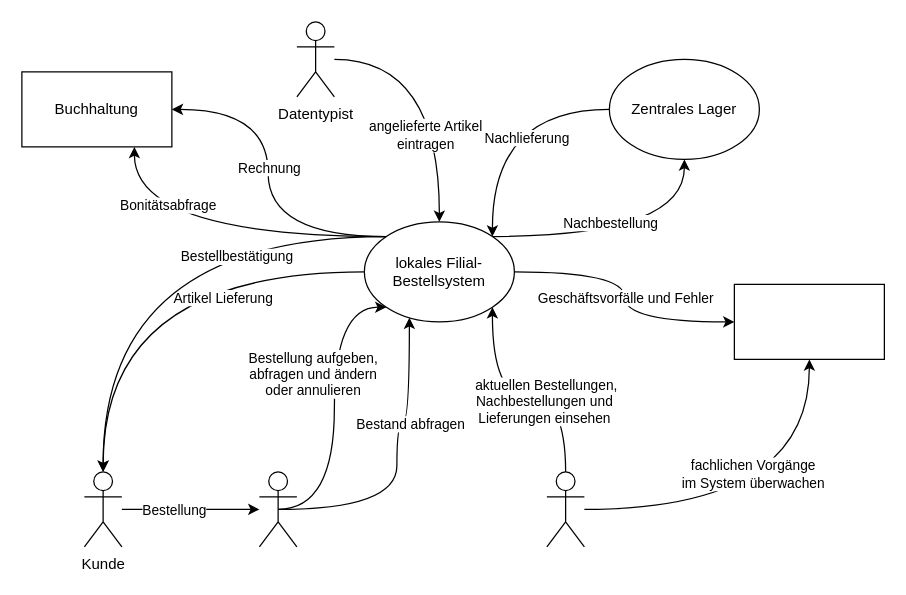
The diagram is 906 pixels wide and 595 high, and some of its shapes have lost their labels. The centre of each missing label's shape, as x and y in pixels:
"Filialleiter" goes at point 565,509.
"Logging" goes at point 808,321.
"Mitarbeiter" goes at point 277,509.
